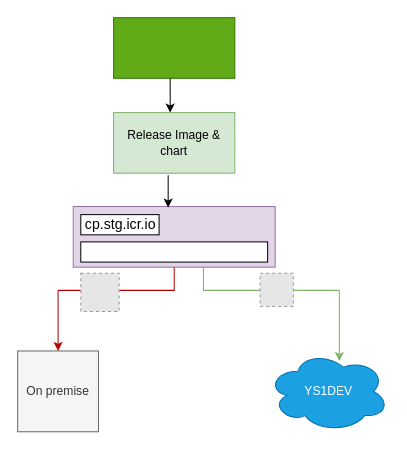
The diagram is 407 pixels wide and 449 high, and some of its shapes have lost their labels. Grey dashed boxes stand in for pictures. Here are the shapes that lost their labels. From the top down, the centre of each, then its label:
At [174,47]: "Git commit".
At [174,251]: "artifactory.swg-devops.com".
